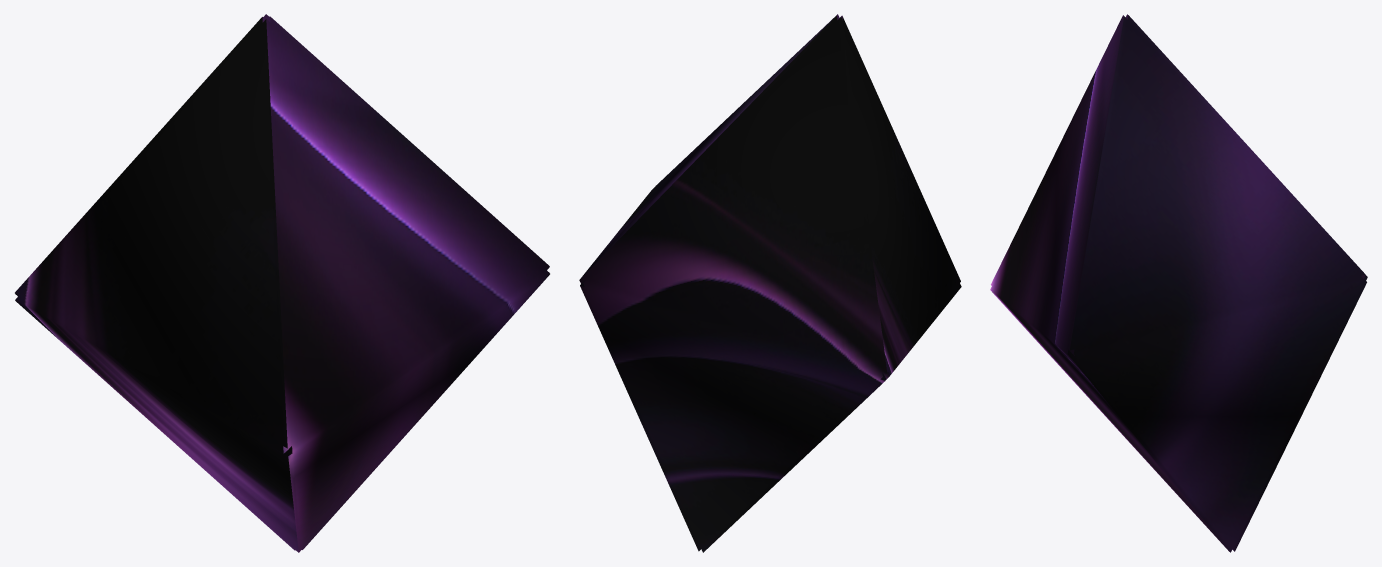
The model's file is BabyShard.glb.
The picture shows the model from 3 angles, left to right: view 1: azimuth 30°, elevation 25°; view 2: azimuth 150°, elevation 25°; view 3: azimuth 270°, elevation 25°; orthographic projection. The views are drawn at different scales.
Parts seen in each view (by area): view 1: Octahedron_Companion; view 2: Octahedron_Companion; view 3: Octahedron_Companion.
Boxes of the visible parts, left/top/right/bottom form: Octahedron_Companion: left=15, top=14, right=549, bottom=552; Octahedron_Companion: left=579, top=14, right=961, bottom=552; Octahedron_Companion: left=990, top=14, right=1367, bottom=552.
Size of the model in its own units: 0.6038 by 0.8619 by 0.591.
1 material, 1 textured.
